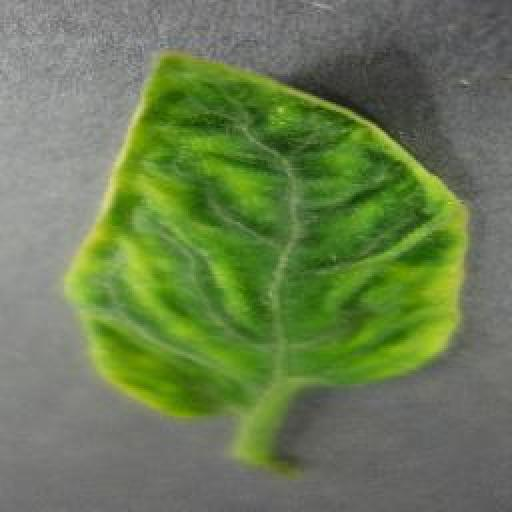Yellow Leaf Curl Virus: (65, 48, 472, 423)
